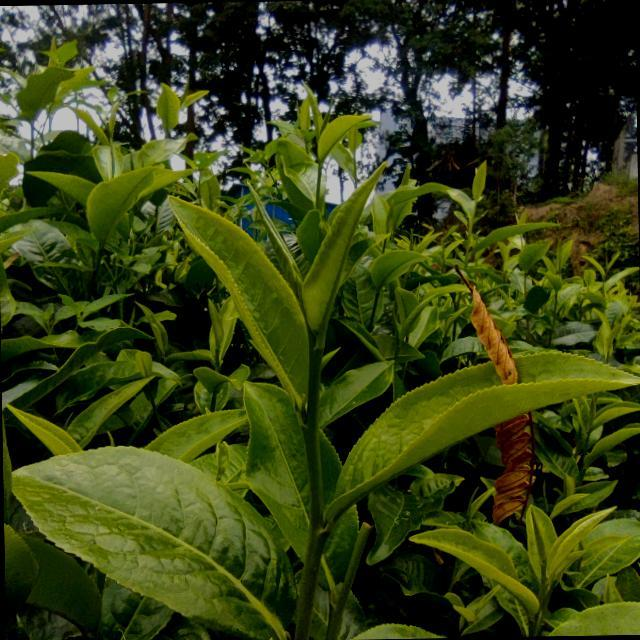Stem: (308, 334, 324, 352), (318, 160, 323, 165), (109, 144, 113, 149)
